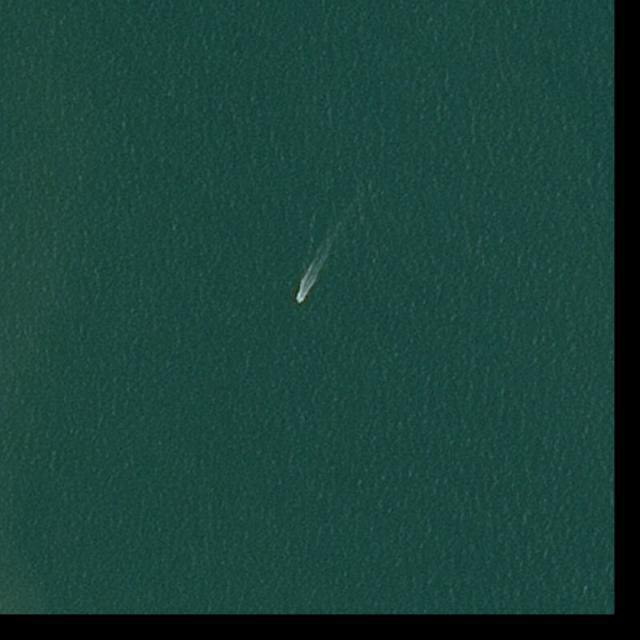ship: (297, 297, 303, 303)
